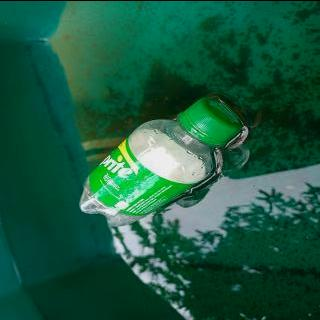bottle: (75, 96, 244, 227)
